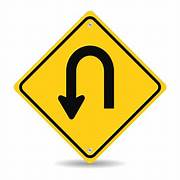back: (12, 10, 167, 165)
